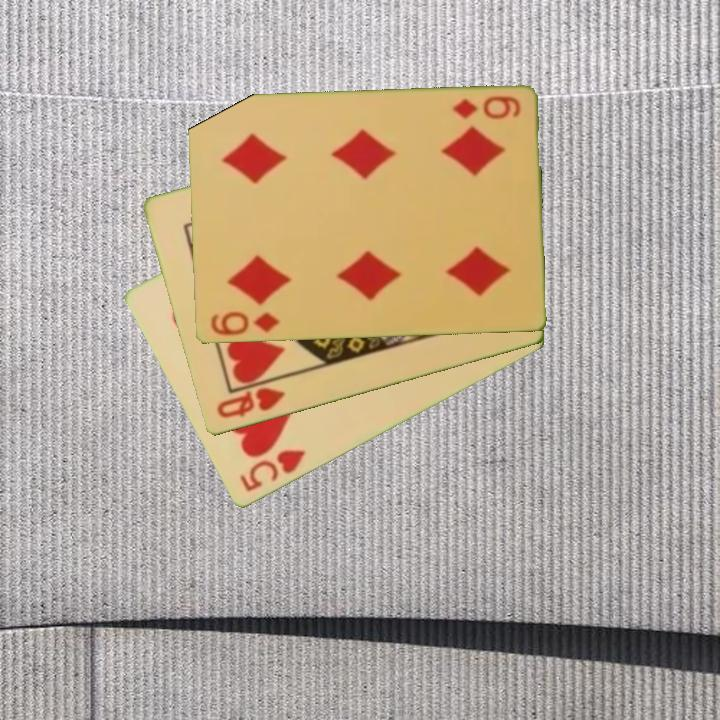5h: (236, 446, 308, 496)
6d: (206, 308, 282, 339), (449, 92, 523, 123)
Qh: (213, 384, 287, 422)
